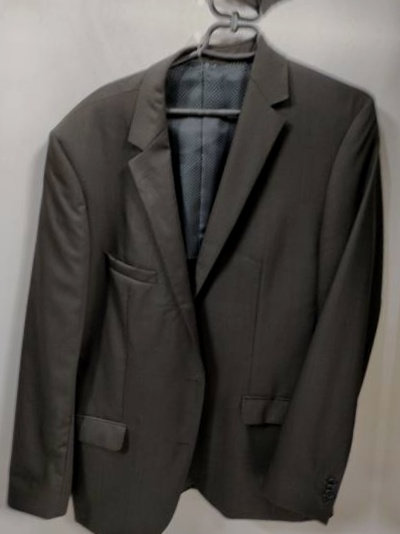Blazer: (0, 26, 400, 534), (385, 64, 400, 534), (37, 0, 400, 14), (0, 0, 8, 521)
